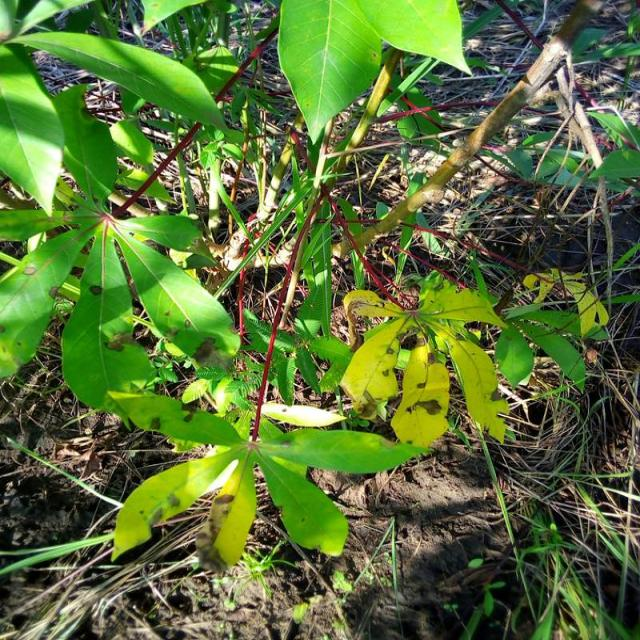cassava leaf: (110, 400, 431, 573), (6, 29, 241, 143), (276, 0, 382, 146)
